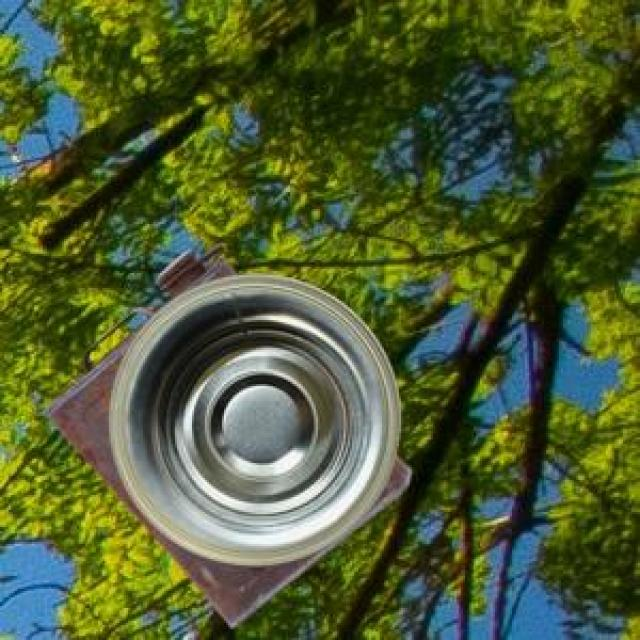logam: (39, 242, 409, 624), (106, 272, 398, 564)
